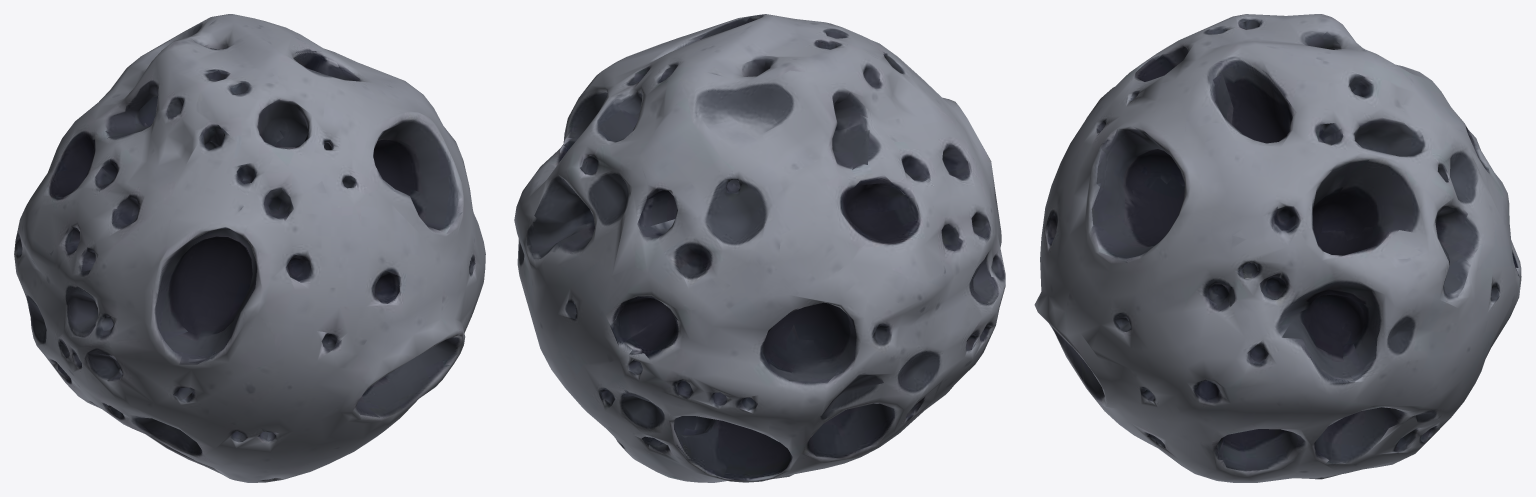
Rendered from meteor.glb.
The picture shows the model from 3 angles, left to right: view 1: azimuth 30°, elevation 25°; view 2: azimuth 150°, elevation 25°; view 3: azimuth 270°, elevation 25°; orthographic projection. The views are drawn at different scales.
Parts seen in each view (by area): view 1: Galaxy_Meteor_Optimized; view 2: Galaxy_Meteor_Optimized; view 3: Galaxy_Meteor_Optimized.
Boxes of the visible parts, box(x1,y1,x2,y2) form: Galaxy_Meteor_Optimized: box(14, 14, 485, 482); Galaxy_Meteor_Optimized: box(514, 14, 1005, 482); Galaxy_Meteor_Optimized: box(1034, 14, 1521, 482).
Bounding box in the file's own units: 1.14 × 1.1 × 1.13.
1 material, 1 textured.
